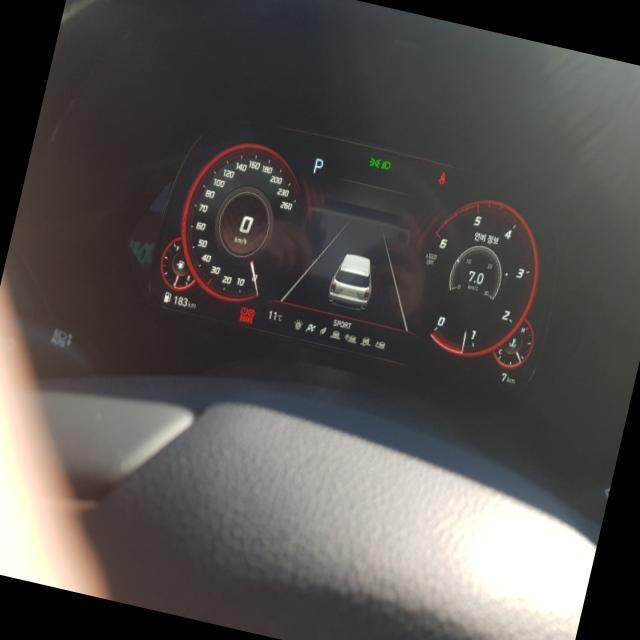Low beam: (379, 158, 390, 170)
SideLamp: (366, 154, 382, 168)
